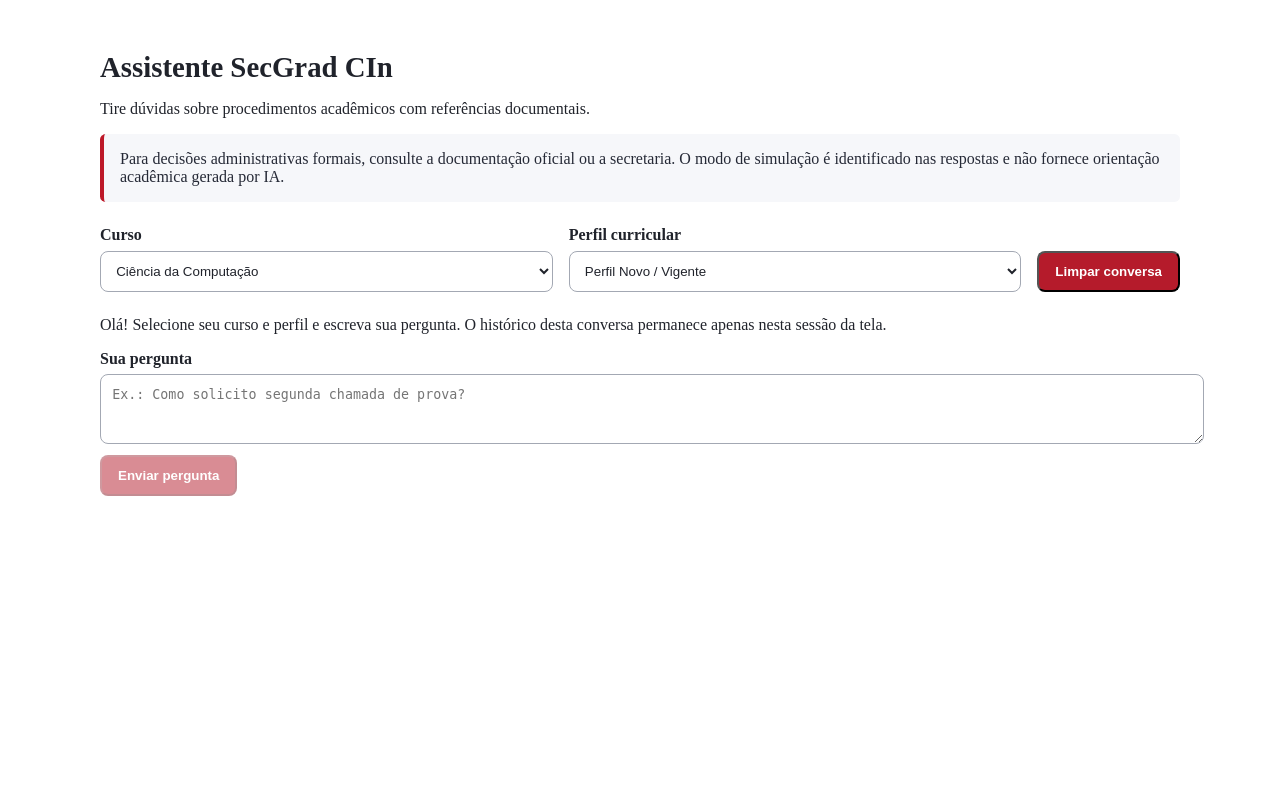
Fluxos da tela SecGrad › exibe erro e permite tentar novamente
Type "Como solicito segunda chamada?" into the text box labelled "Sua pergunta" at (652, 409), box [100, 374, 1204, 444]
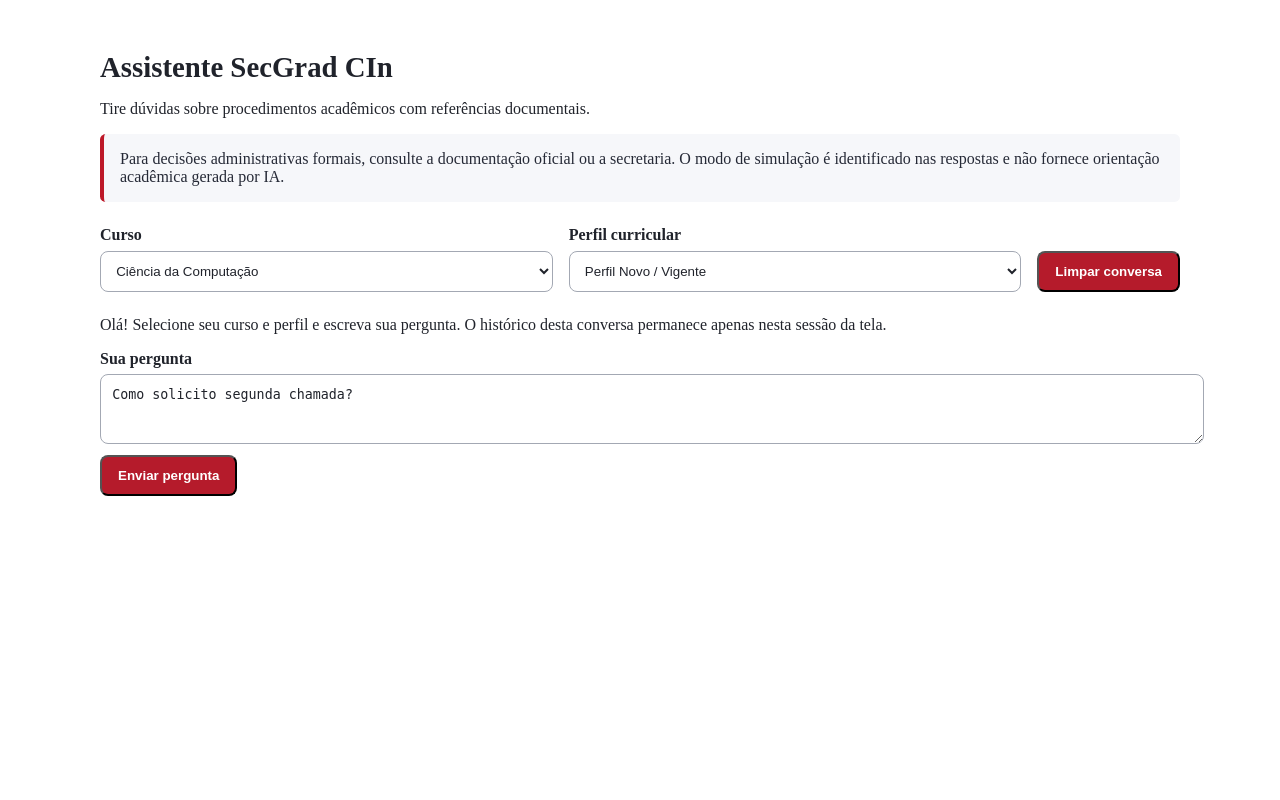
Click the button "Enviar pergunta" at (169, 476), box [100, 455, 238, 496]
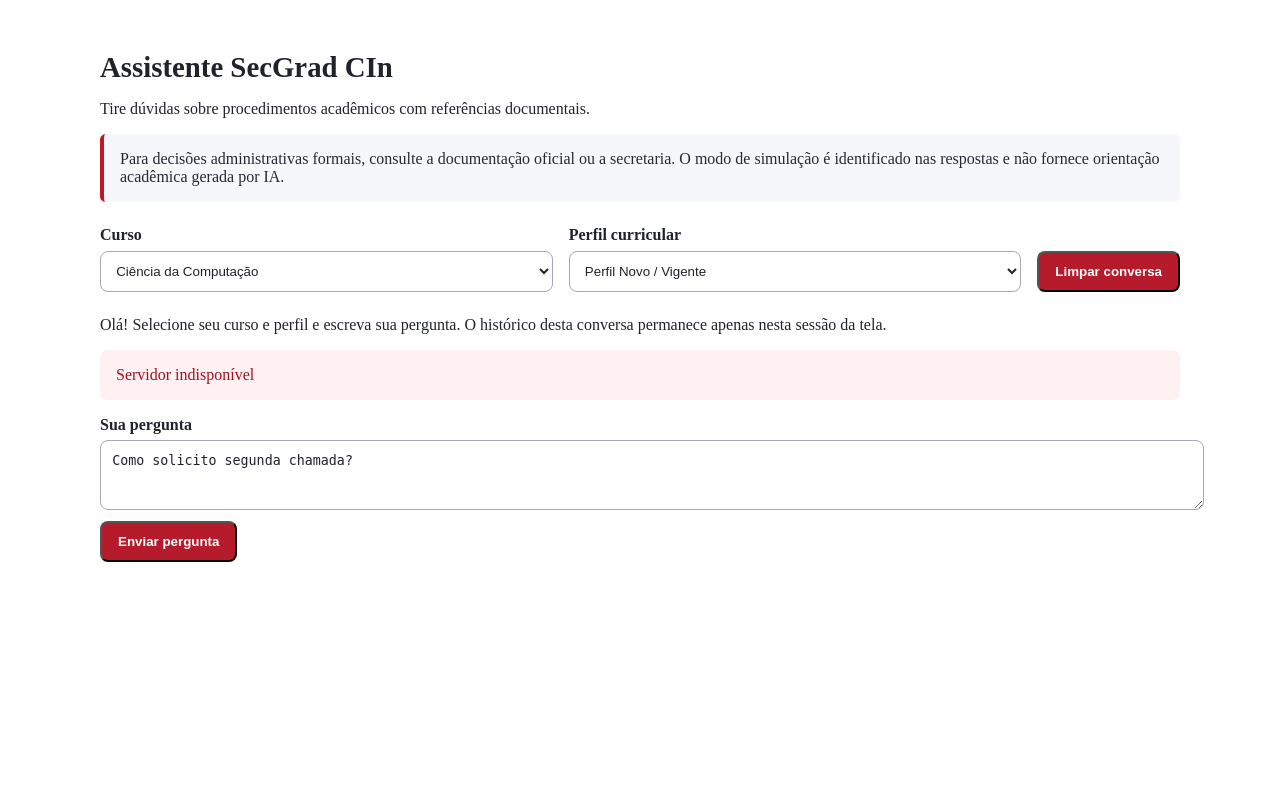
Now the button "Enviar pergunta" is enabled
Now the message reads "Servidor indisponível", box [116, 366, 254, 383]
Click the button "Enviar pergunta" at (169, 542), box [100, 521, 238, 562]
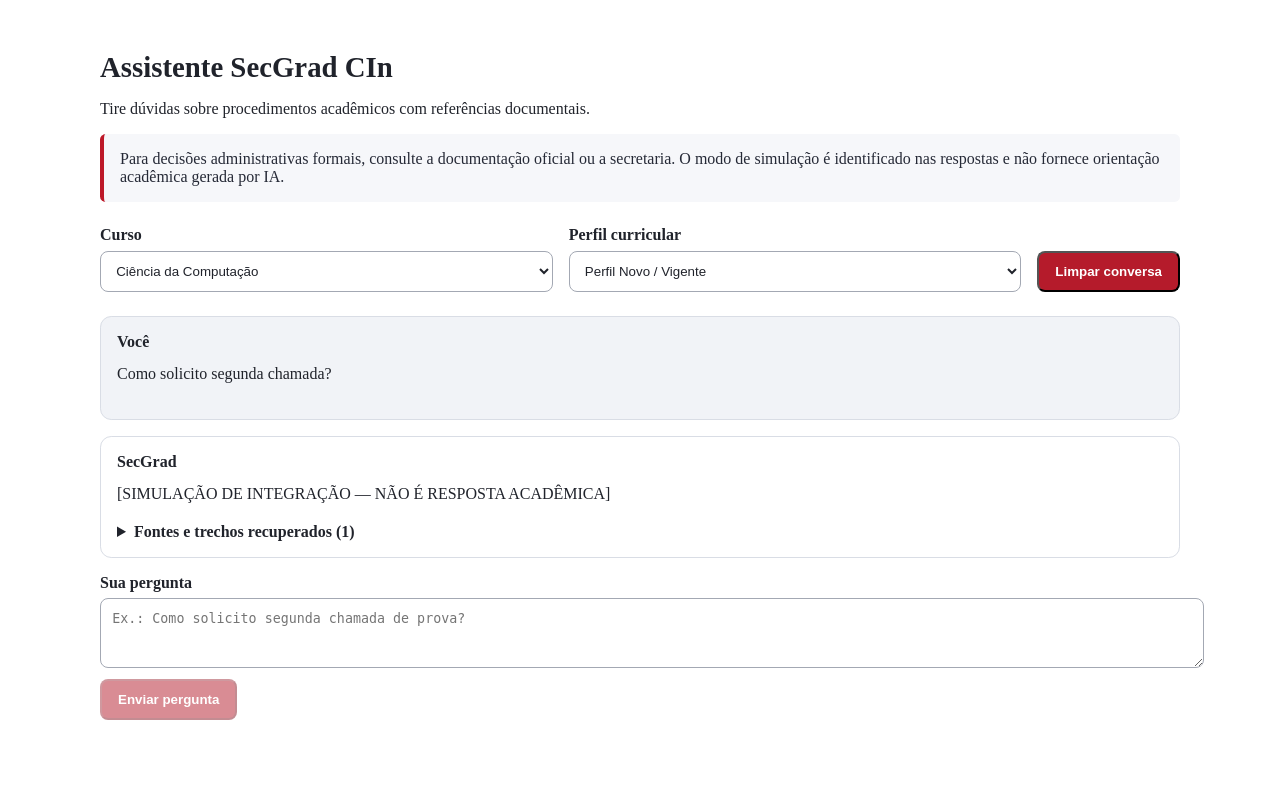
Now the text "[SIMULAÇÃO DE INTEGRAÇÃO — NÃO É RESPOSTA ACADÊMICA]" is shown, box [117, 485, 610, 502]
Now the number of elements named "Mensagem enviada" is 1, box [100, 316, 1180, 420]
